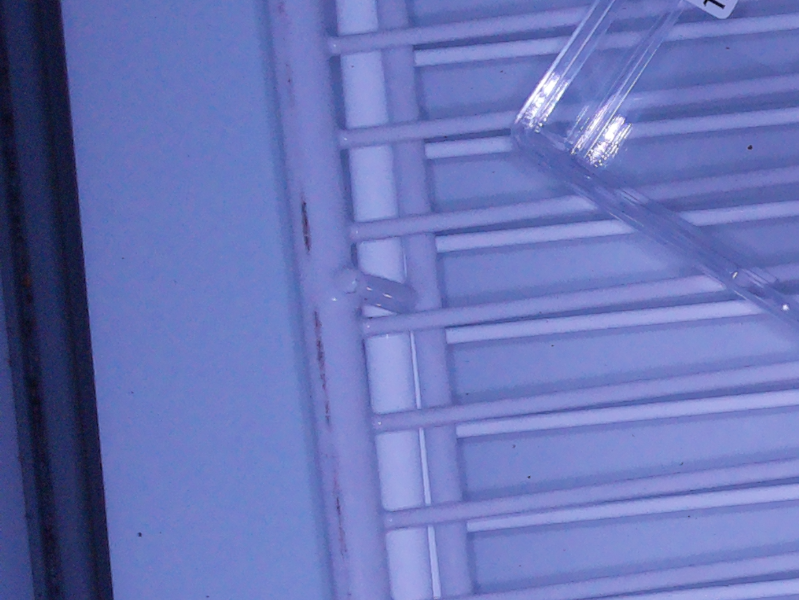plate: (506, 1, 799, 338)
